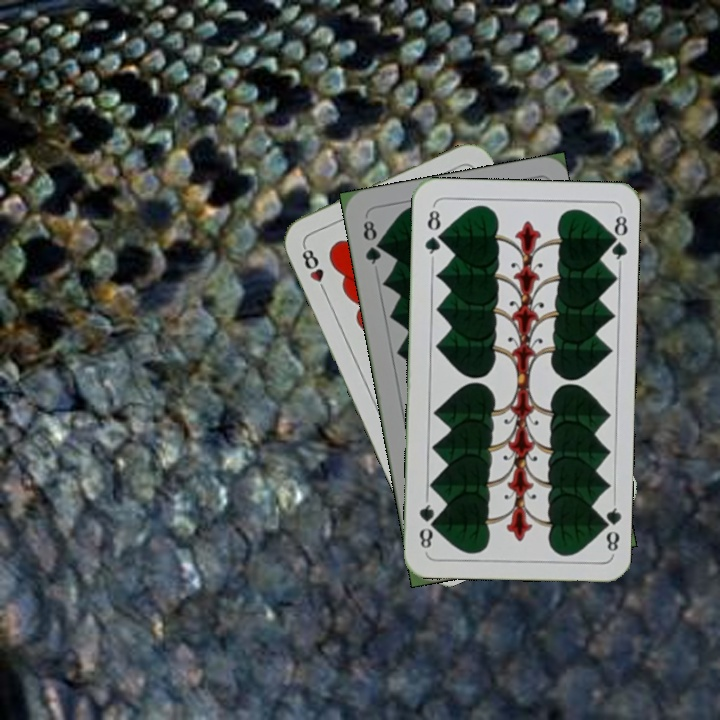G8: (596, 497, 624, 556), (420, 203, 445, 262), (359, 216, 385, 268)
H8: (297, 241, 330, 297)
